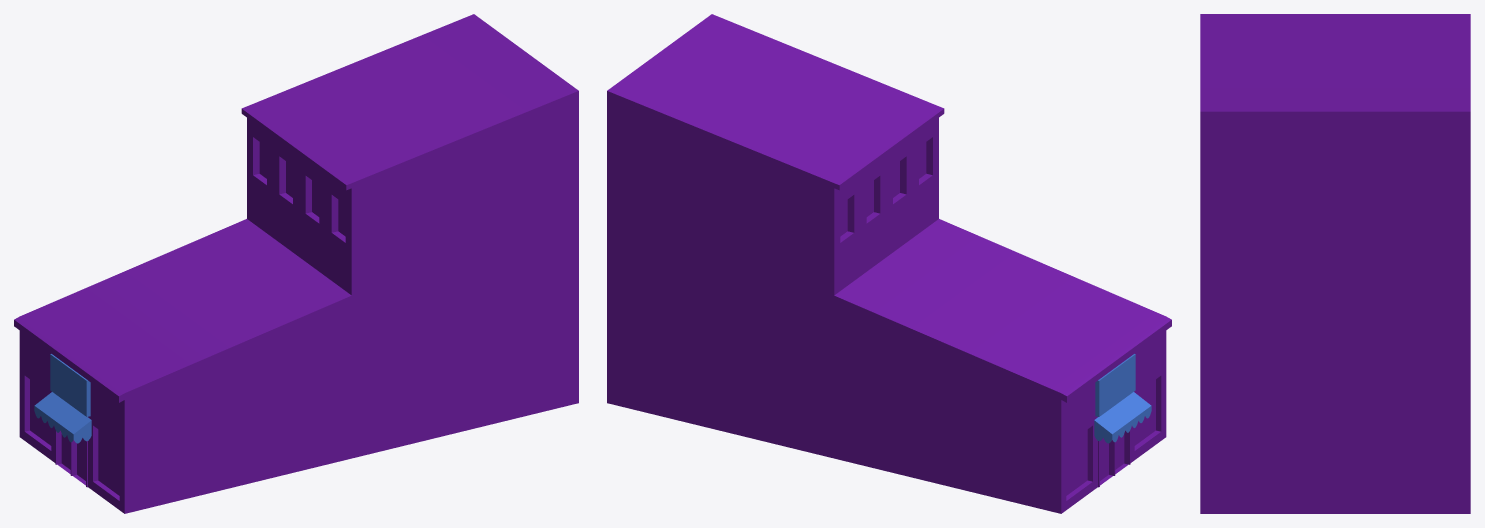
The model's file is Negocio3x1.fbx.
3 renders of one model, left to right at view 1: azimuth 30°, elevation 25°; view 2: azimuth 150°, elevation 25°; view 3: azimuth 270°, elevation 25°, orthographic. The views are drawn at different scales.
Visible parts, largest first — view 1: Negocio3x1, Banner; view 2: Negocio3x1, Banner; view 3: Negocio3x1.
Boxes of the visible parts, left/top/right/bottom form: Negocio3x1: left=14, top=14, right=578, bottom=513; Banner: left=34, top=354, right=91, bottom=443; Negocio3x1: left=607, top=14, right=1171, bottom=513; Banner: left=1094, top=354, right=1151, bottom=443; Negocio3x1: left=1200, top=14, right=1470, bottom=513.
Bounding box in the file's own units: 1024 × 647 × 394.
